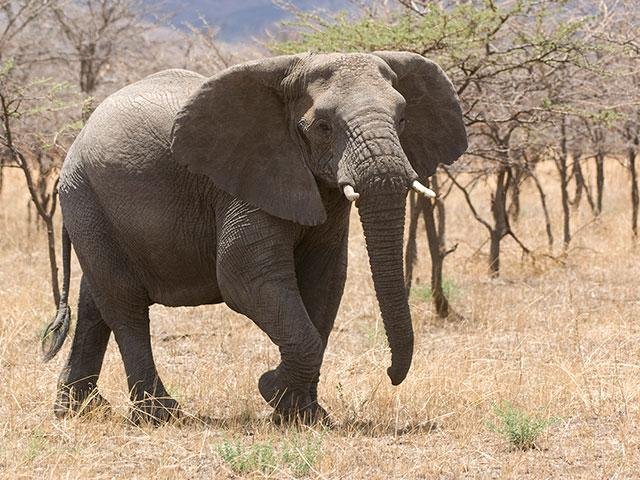elephant: (27, 46, 472, 431)
